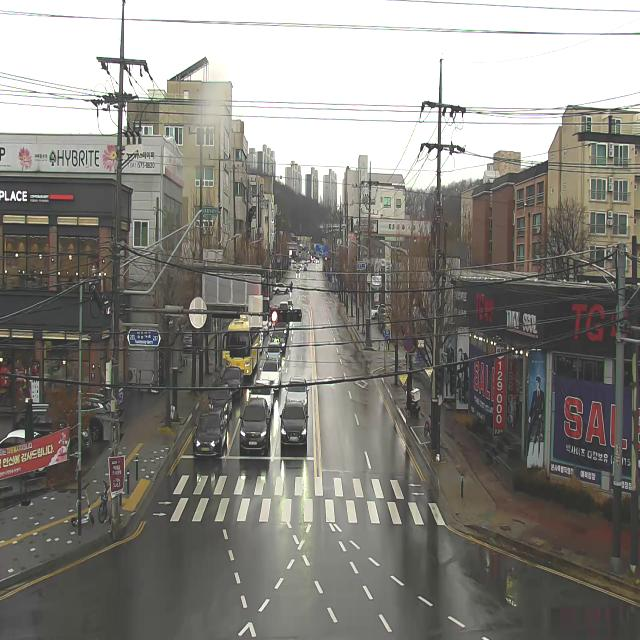Bus: (222, 314, 260, 376)
Car: (12, 412, 92, 460), (0, 429, 45, 478), (74, 392, 110, 442), (239, 398, 271, 453), (193, 408, 227, 457), (280, 402, 308, 447), (208, 384, 232, 420), (248, 381, 274, 414), (285, 376, 309, 411), (221, 366, 244, 398), (260, 360, 282, 393), (265, 343, 282, 364), (270, 332, 285, 355), (262, 297, 270, 334), (273, 322, 288, 340), (372, 304, 386, 319), (273, 282, 290, 294), (183, 331, 192, 348), (278, 302, 289, 310), (269, 306, 273, 327), (260, 333, 264, 354), (286, 300, 294, 310), (259, 332, 265, 341), (304, 265, 308, 271), (293, 261, 296, 268), (296, 268, 300, 273), (297, 266, 302, 270), (316, 259, 319, 264), (299, 262, 302, 266)
